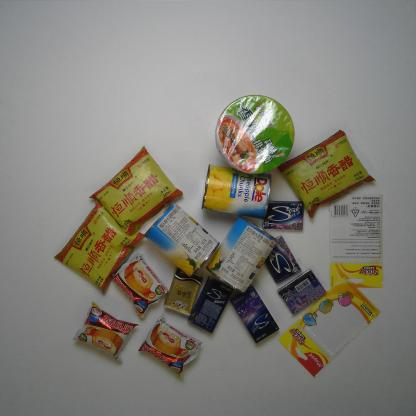Canned Food: (204, 211, 281, 295), (141, 199, 221, 279), (200, 161, 272, 221)
Dessert: (136, 312, 205, 380), (71, 300, 141, 364), (109, 250, 170, 320)
Gum: (228, 282, 281, 346), (186, 274, 236, 336), (275, 267, 329, 317), (259, 233, 303, 287), (258, 198, 306, 232)
Instant Noodles: (213, 93, 296, 175)
Seasoner: (51, 196, 148, 296), (276, 128, 378, 220), (86, 144, 184, 237)
Stationery: (274, 272, 383, 380), (324, 191, 386, 294)
Tissue: (161, 264, 209, 319)
